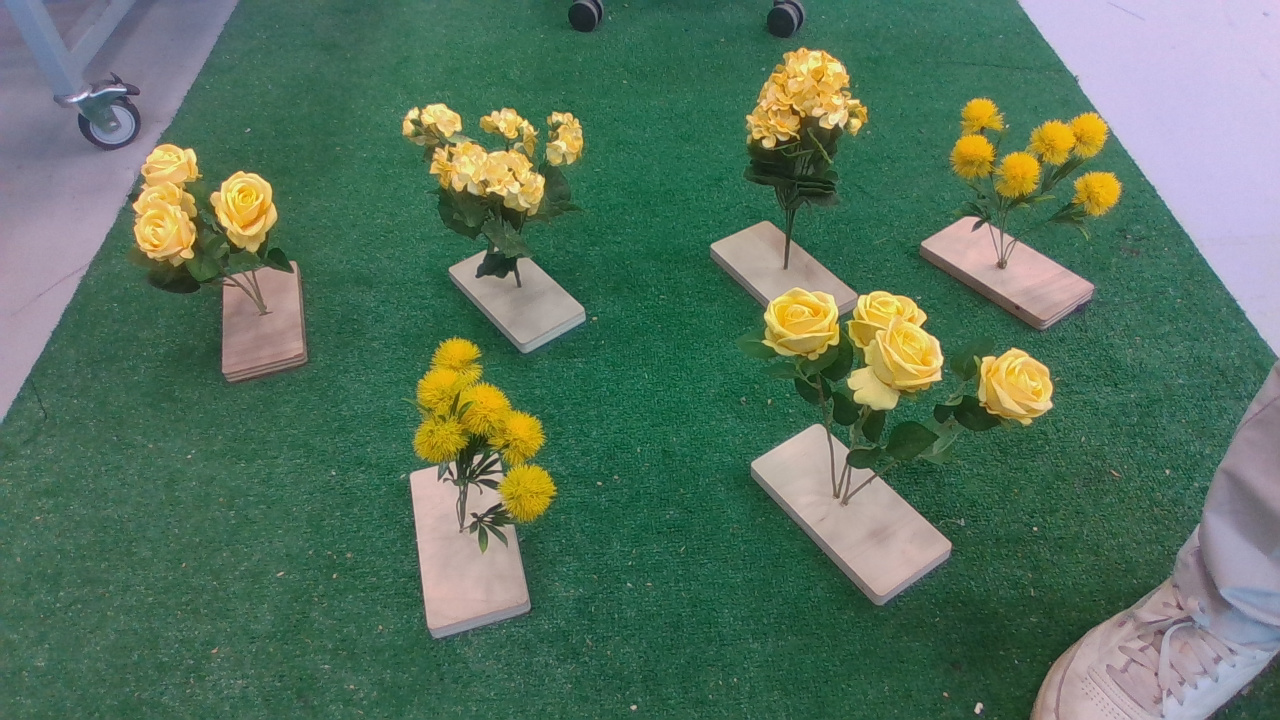dandelion: (390, 336, 568, 565), (931, 93, 1132, 239)
geranium: (396, 99, 596, 292), (734, 51, 878, 221)
rose: (742, 289, 1065, 480), (134, 144, 313, 299)
